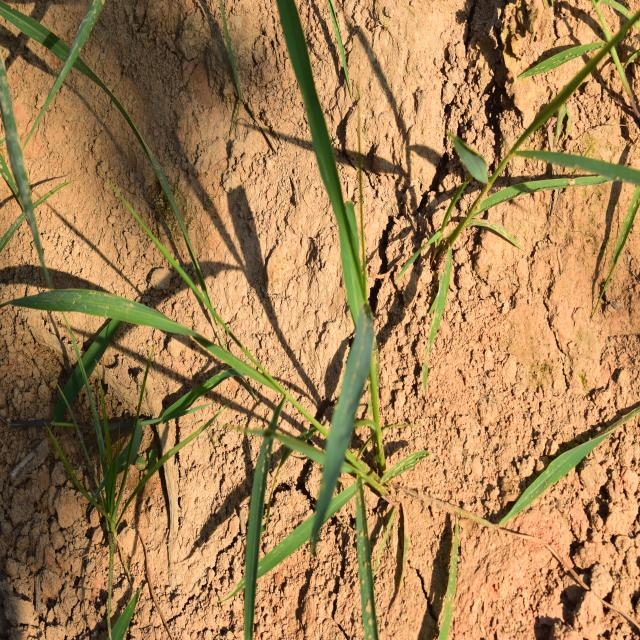green_foxtail: (66, 109, 437, 543)
